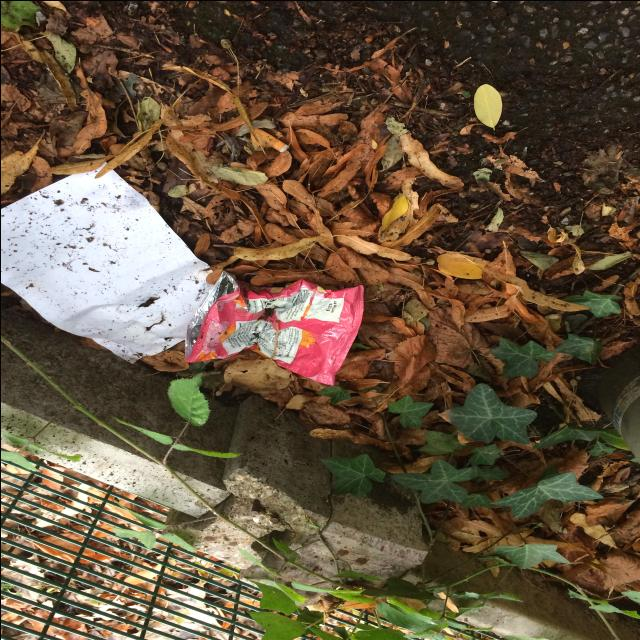Cigarette: (253, 127, 289, 151)
Crisp packet: (184, 269, 363, 385)
Normal paper: (0, 161, 213, 363)
